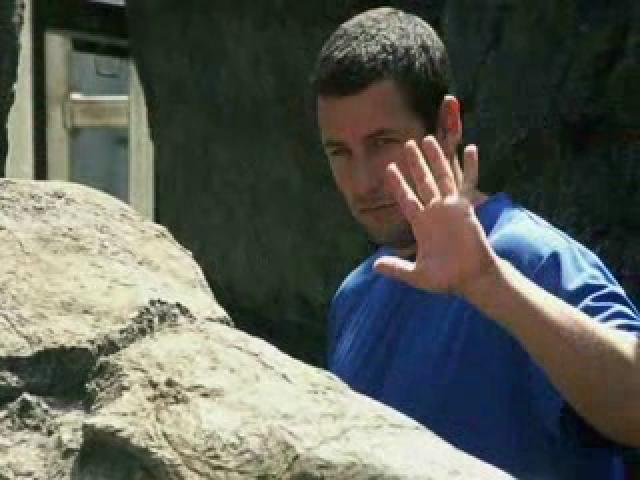L: (319, 18, 640, 479)
